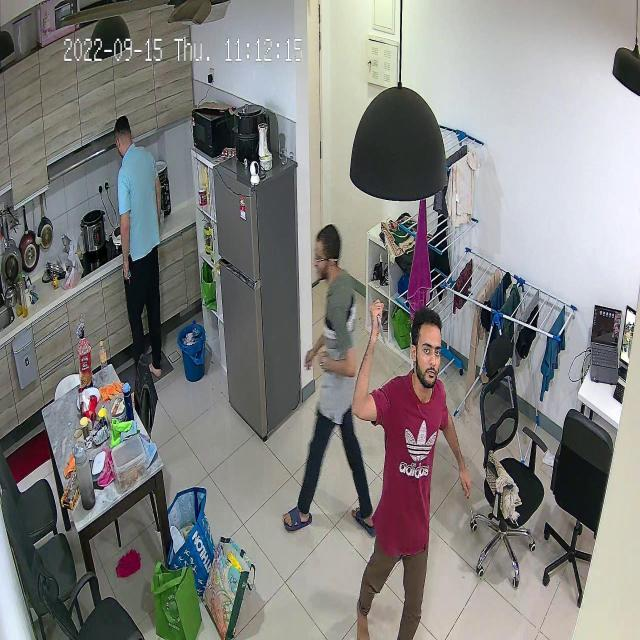Knife: (369, 308, 401, 364)
